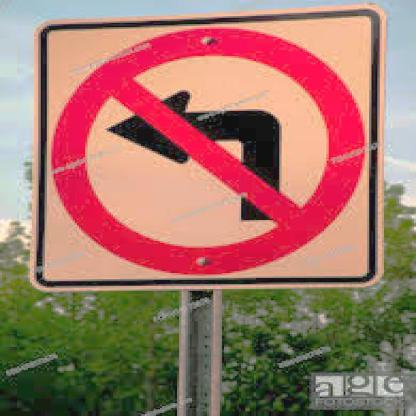No left turn: (42, 30, 370, 285)
